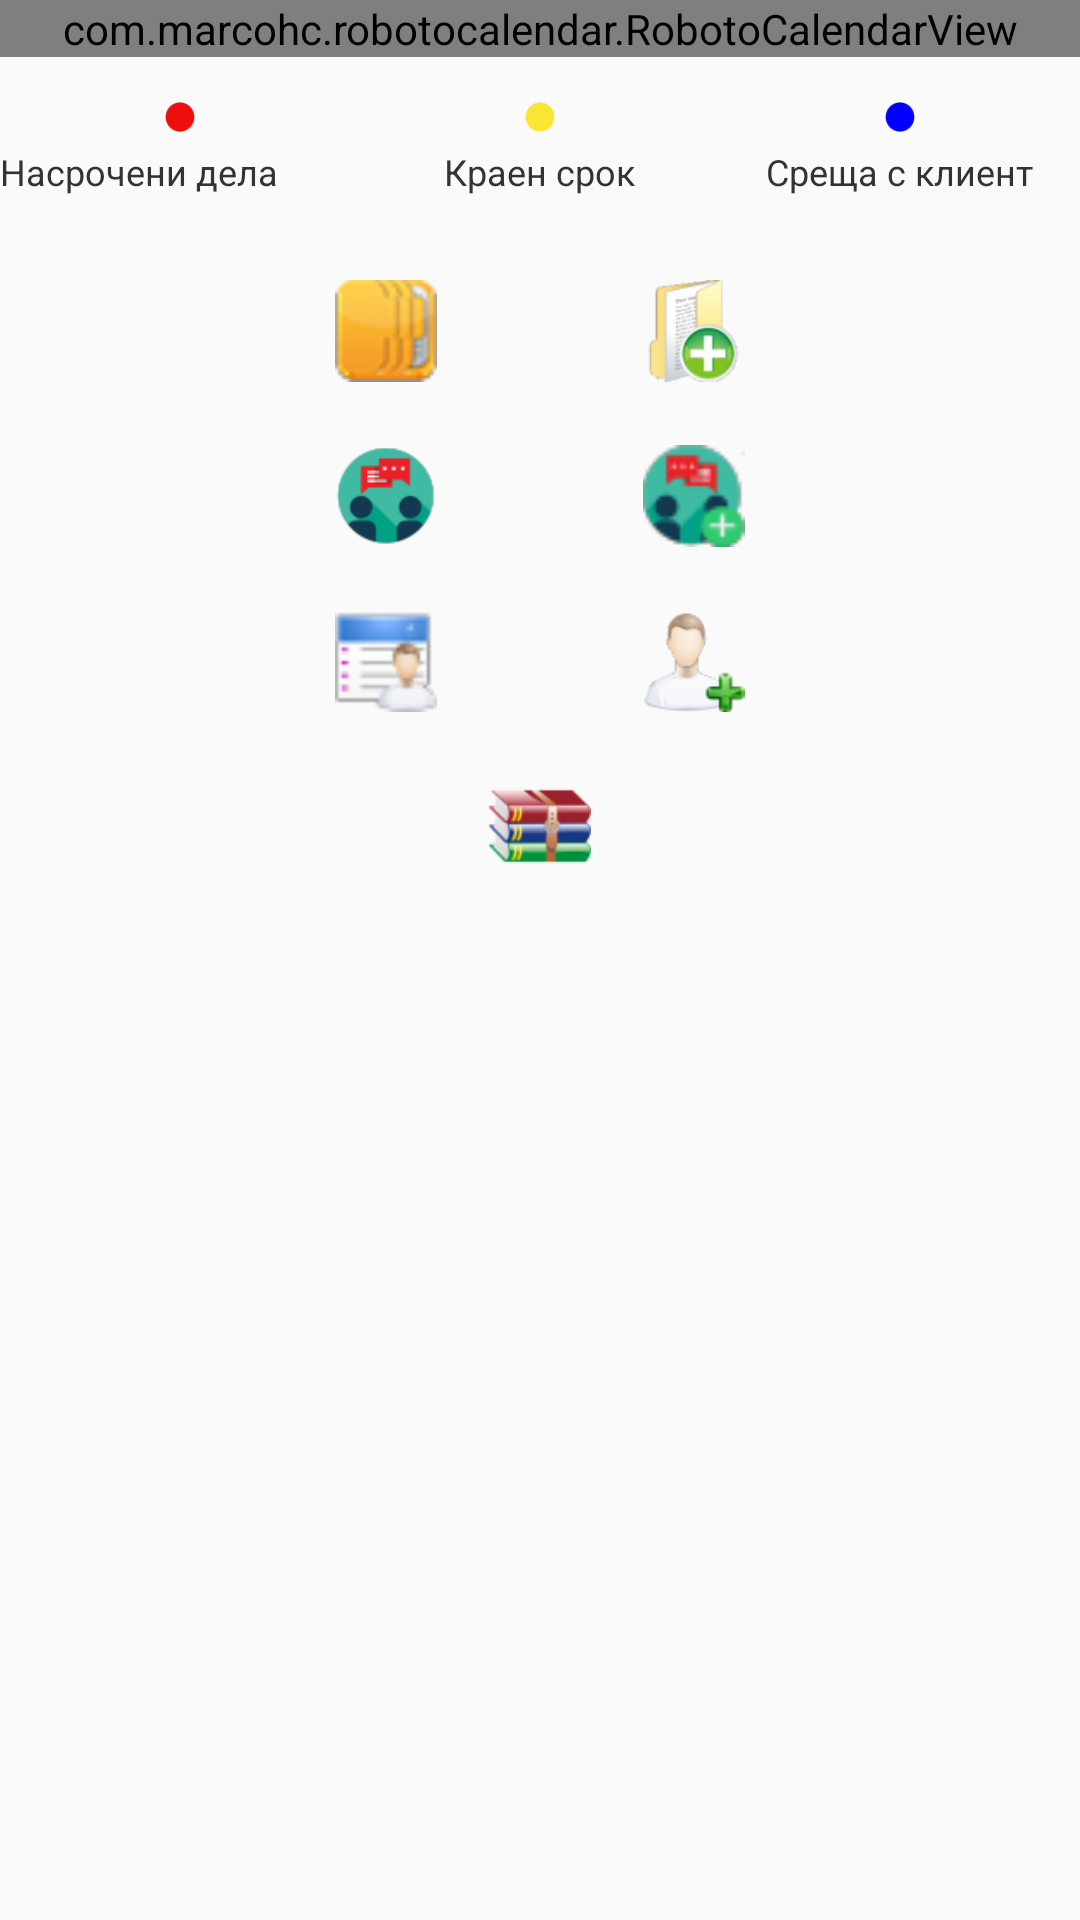

Named icons in this screenshot (1080*1920) and their bounding boxes, Rect(x1, y1, x2, y2):
add meeting nav: Rect(643, 445, 745, 547)
addcase: Rect(649, 280, 737, 382)
addclient: Rect(645, 613, 745, 712)
caselist: Rect(335, 280, 437, 382)
client list: Rect(335, 613, 437, 712)
meeting: Rect(337, 448, 434, 544)
